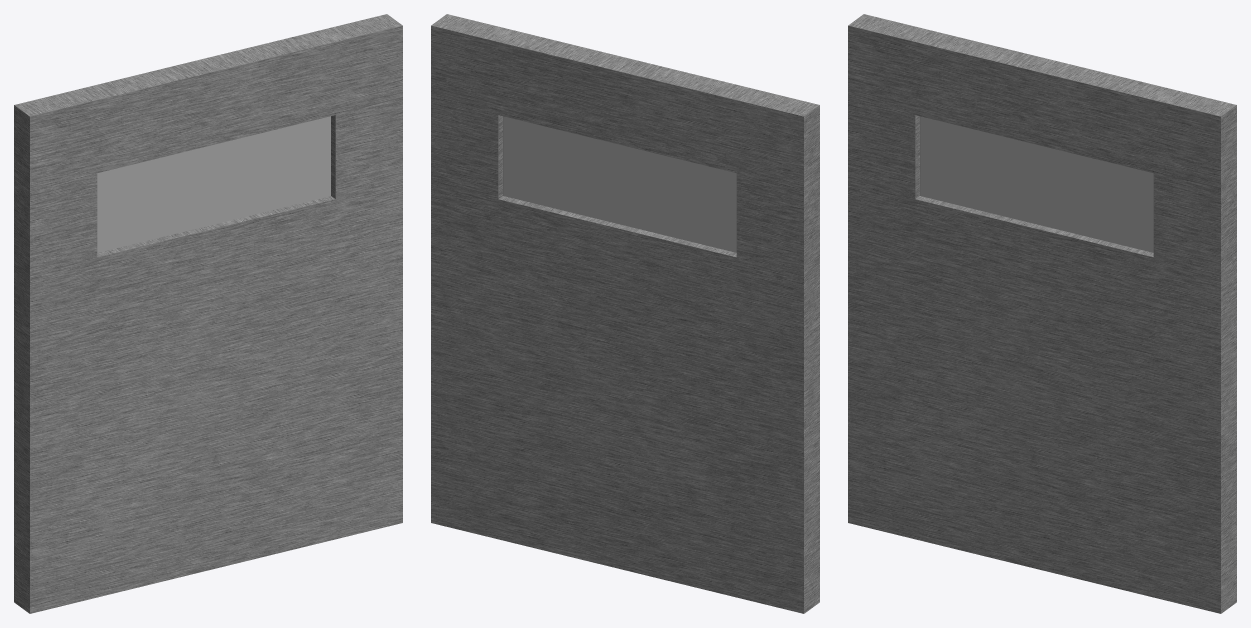
Rendered from Maze_Door.glb.
3 renders of one model, left to right at view 1: azimuth 30°, elevation 25°; view 2: azimuth 150°, elevation 25°; view 3: azimuth 330°, elevation 25°, orthographic.
Visible parts, largest first — view 1: Door; view 2: Door; view 3: Door.
Part boxes in pixels (box(x1,y1,x2,y2)): Door: box(14, 14, 402, 613); Door: box(431, 14, 819, 613); Door: box(848, 14, 1236, 613).
Bounding box in the file's own units: 8.81 × 11.22 × 0.649.
1 material, 1 textured.
